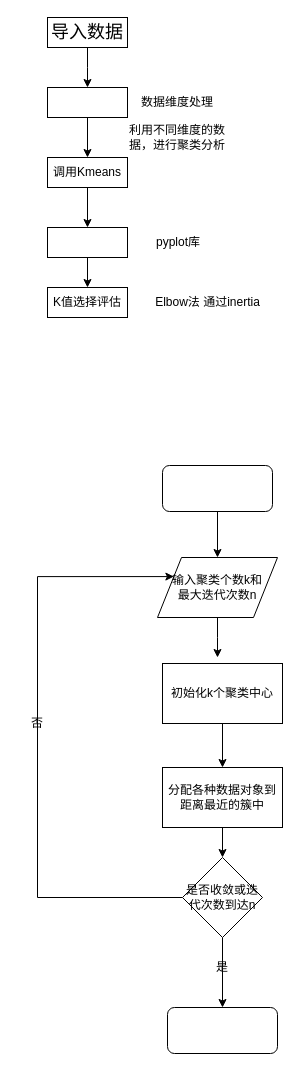
Image size: 300x1071. Some labels were removed from this diagram. The centre of each missing label's shape, as x and y in pixels:
"开始" belongs at (217,488).
"数据处理" belongs at (87,102).
"结果可视化" belongs at (87,242).
"输出聚类结果" belongs at (222,1030).
